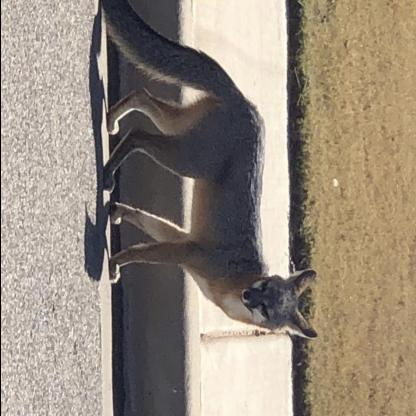zorro: (92, 10, 328, 340)
